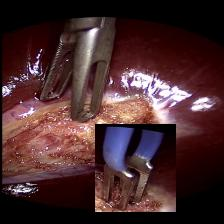Bipolar: (94, 124, 175, 212)
Grasper: (32, 17, 114, 123)
